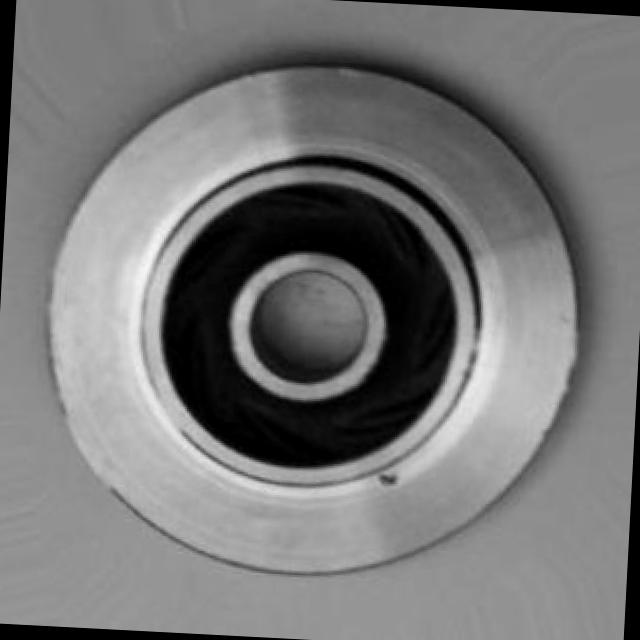Defect: (378, 468, 399, 502)
